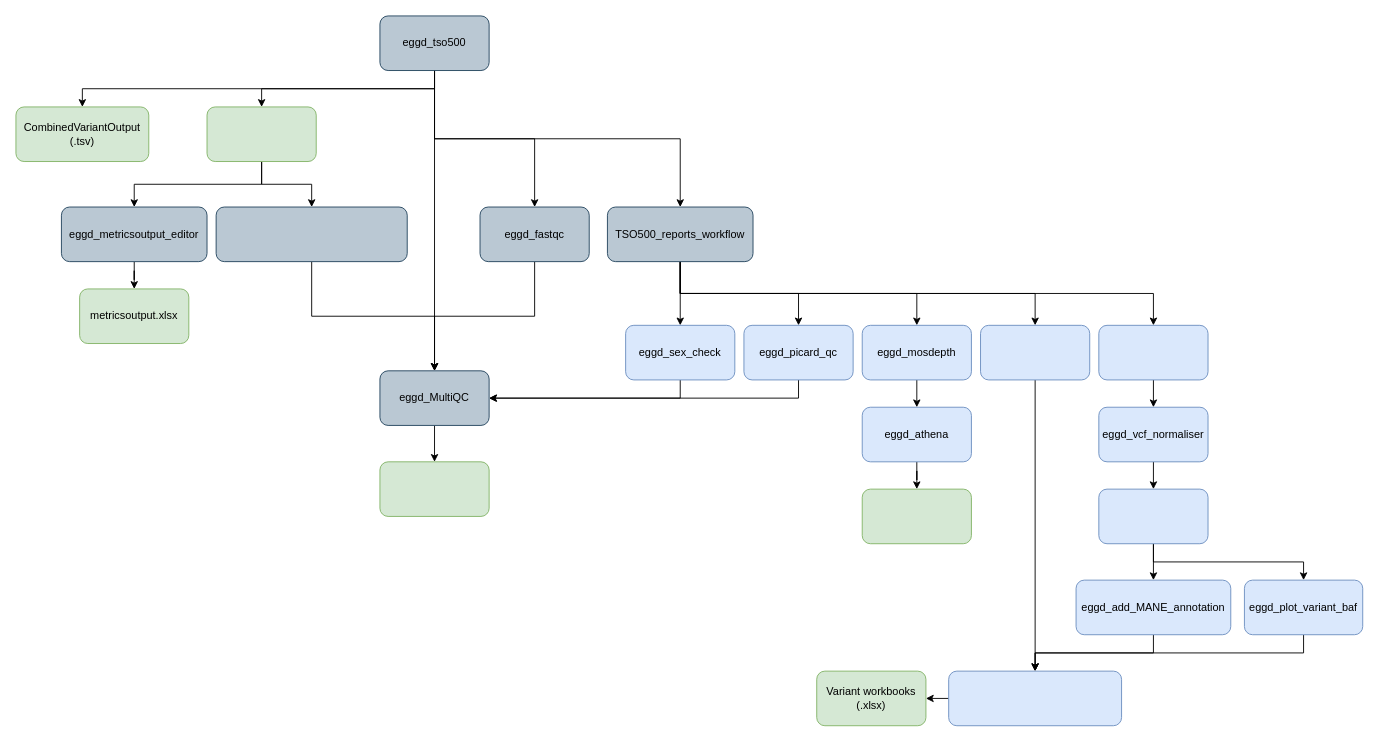
This 1379x742 diagram has some shape labels left out. The shapes that lost their labels are listed below. From the top down, each one's centre as x and y in pixels, then its label:
the point at 261,134: metricsoutput.tsv
the point at 311,234: eggd_MetricsOutput_MultiQC_parser
the point at 1035,352: CNVkit
the point at 1153,352: VCF rescue
the point at 434,488: MultiQC report (.html)
the point at 916,516: Coverage reports (.html)
the point at 1153,516: eggd_vep
the point at 1035,698: eggd_generate_variant_workbook
